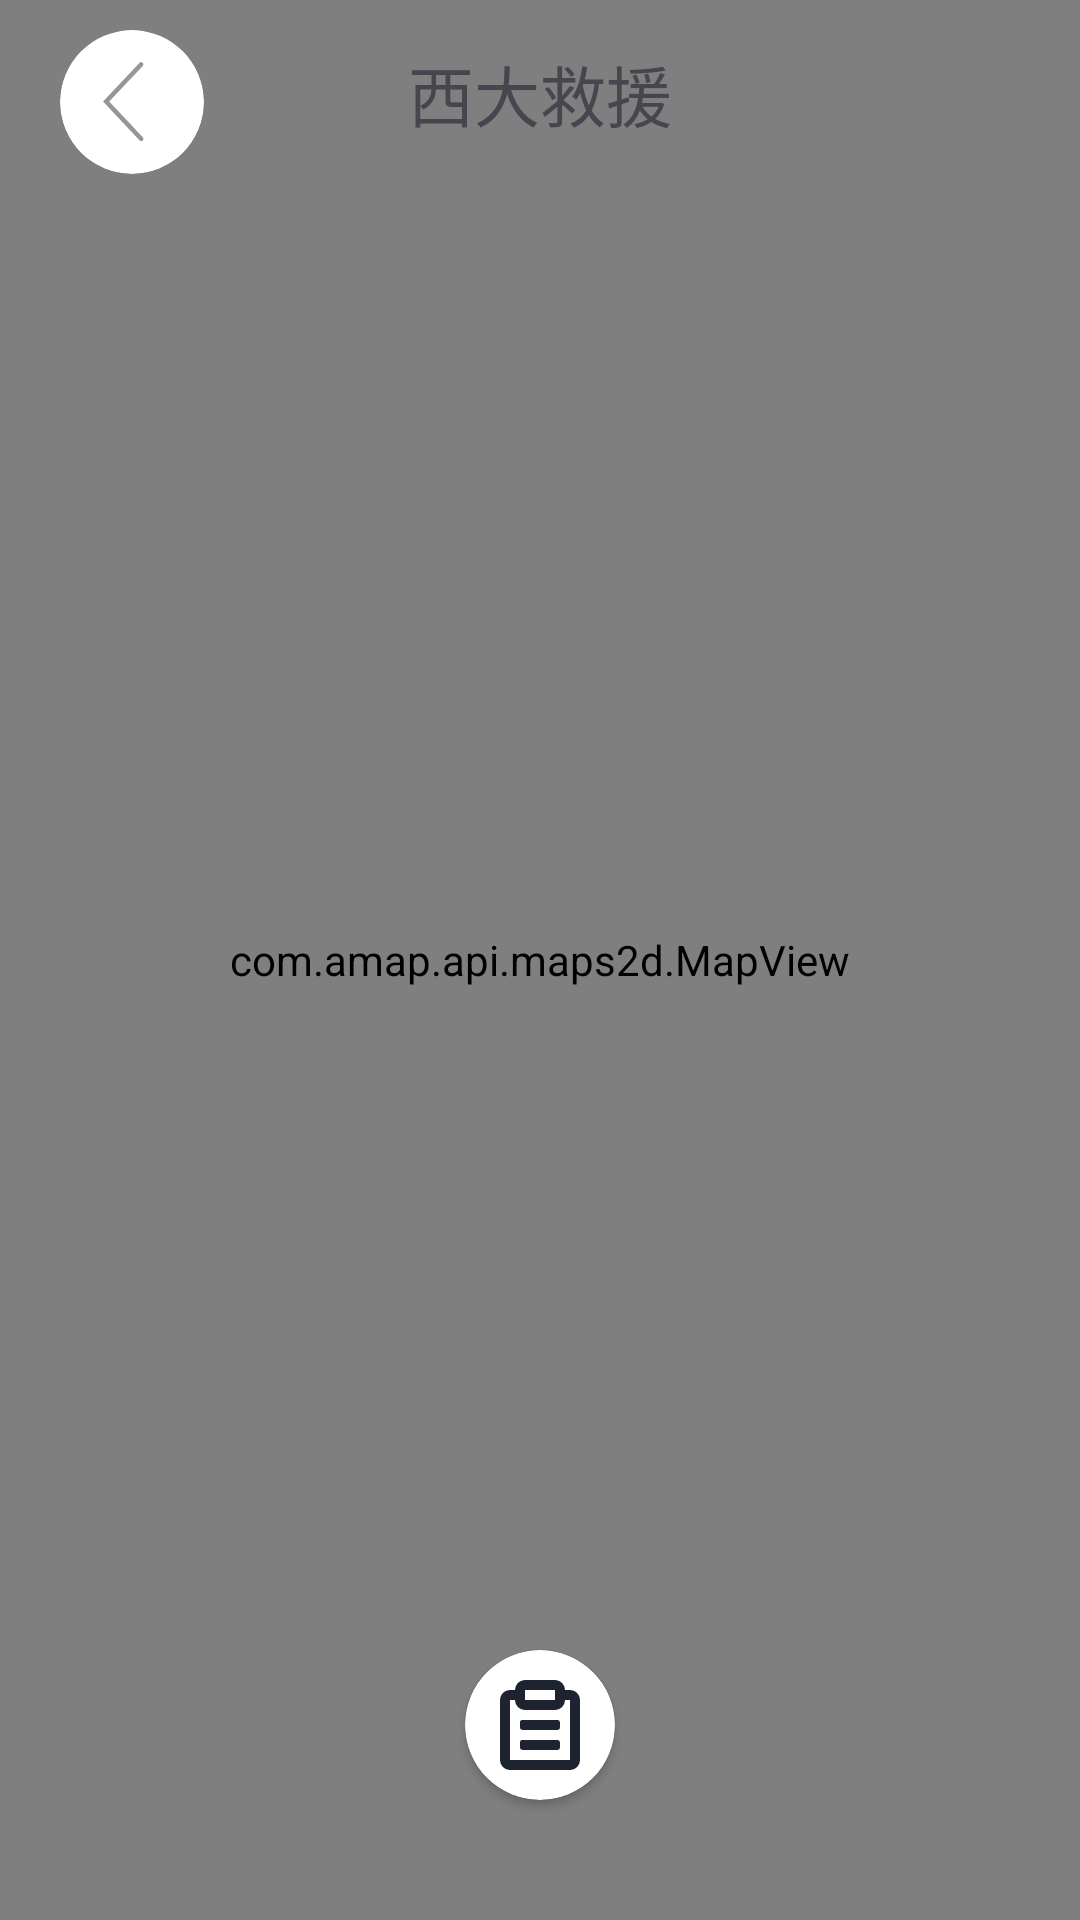

Locate icon controls on the screen. Image size 1080 × 1920, boxes as (x1, y1, x2, y2).
detail: (500, 1680, 580, 1770)
